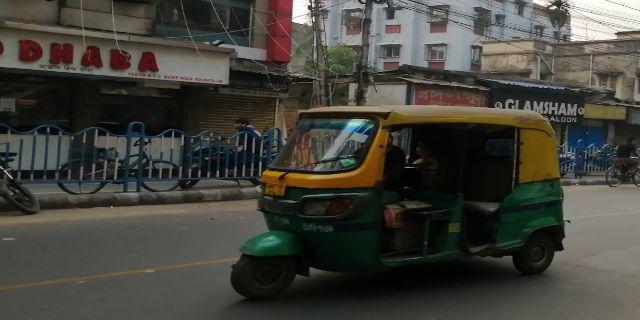Autorickshaw: (227, 106, 569, 301)
